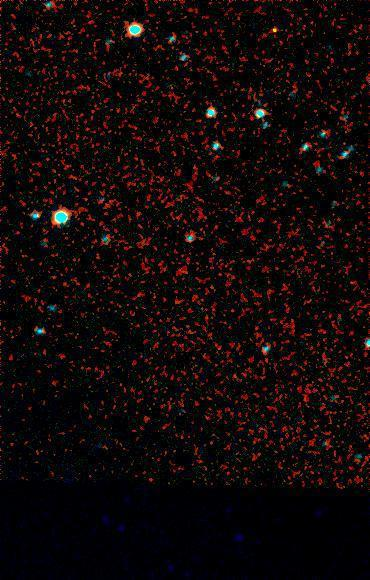star: (250, 11, 280, 41)
